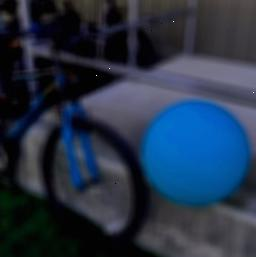algae: (137, 96, 252, 206)
